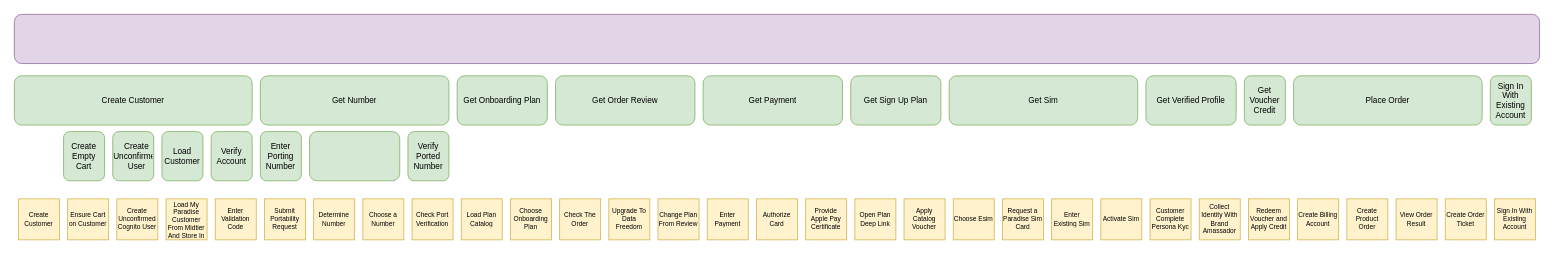
The diagram is 1554 pixels wide and 254 high, and some of its shapes have lost their labels. Here are the shapes that lost their labels. From the top down, the centre of each, then its label:
point (777, 39): Onboard A Customer
point (354, 156): Get New Number
